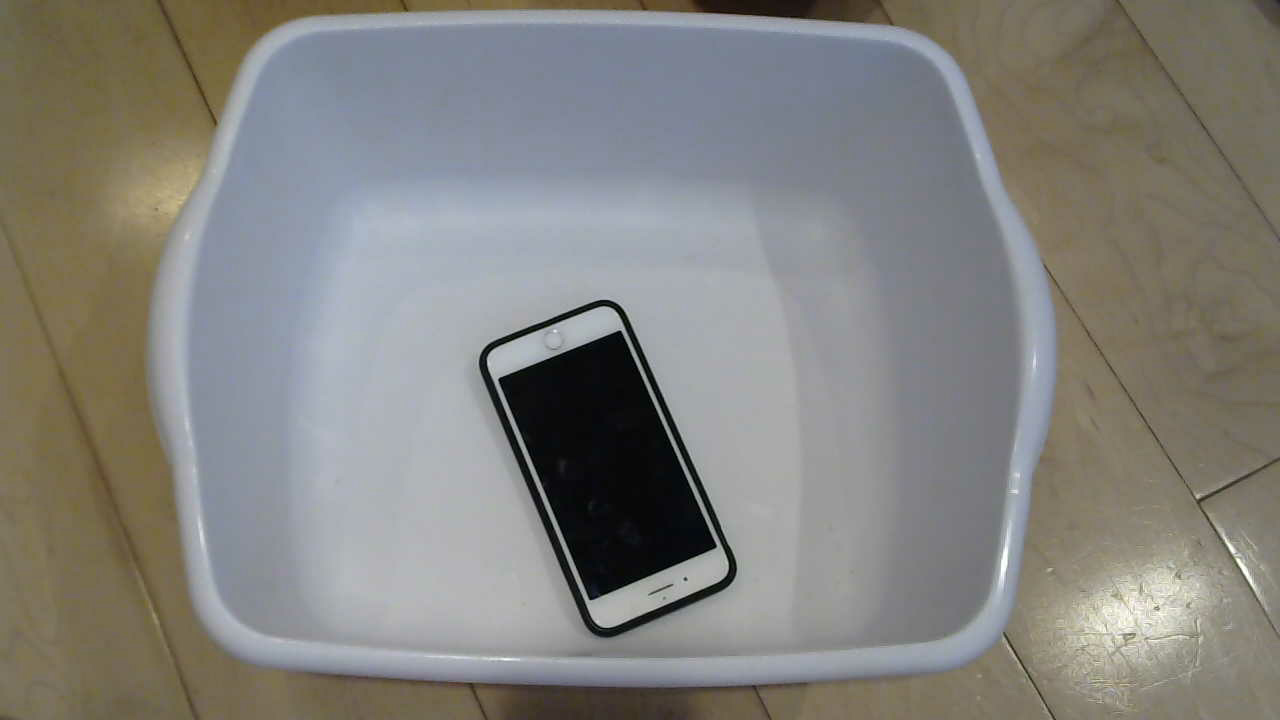phone: (461, 305, 740, 639)
